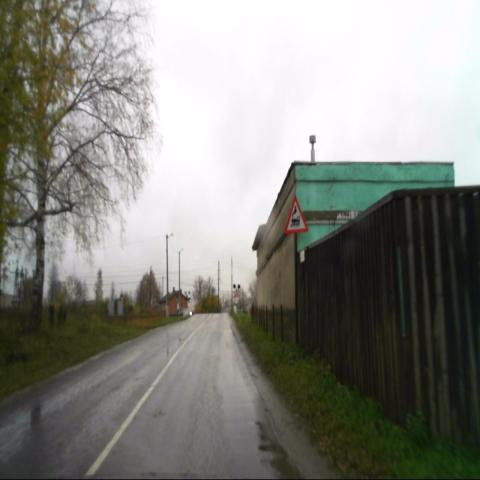1_2: (284, 195, 310, 233)
